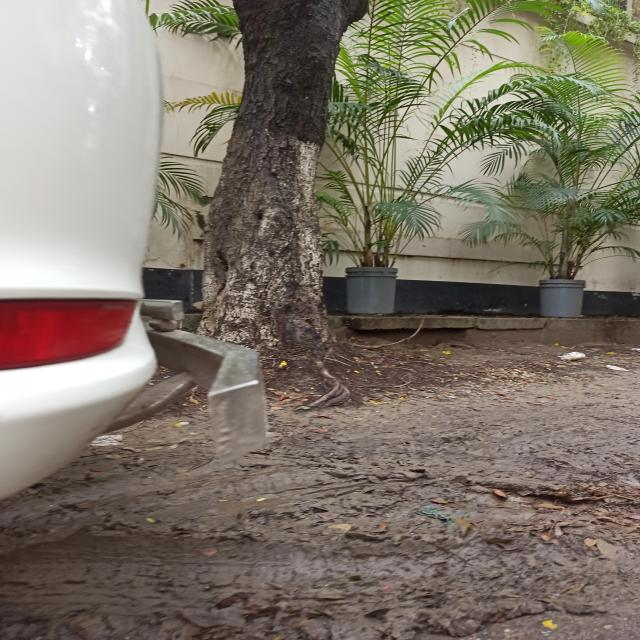artificial_container: (344, 266, 398, 314), (538, 278, 586, 318)
